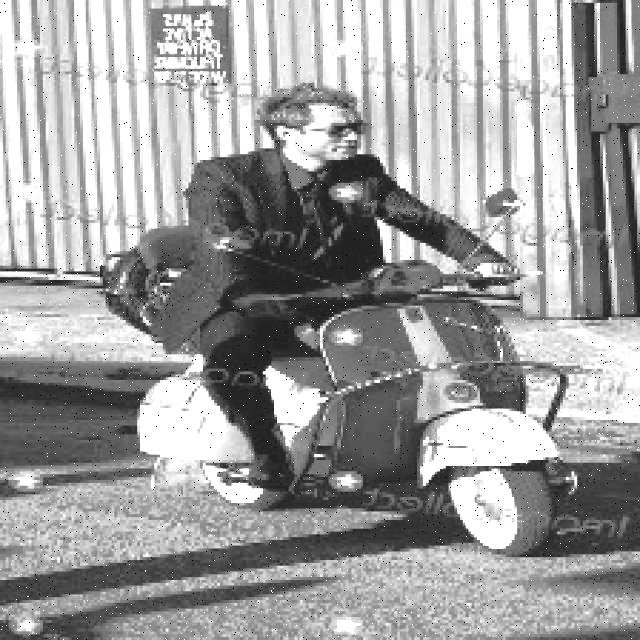Bike: (283, 278, 601, 560)
